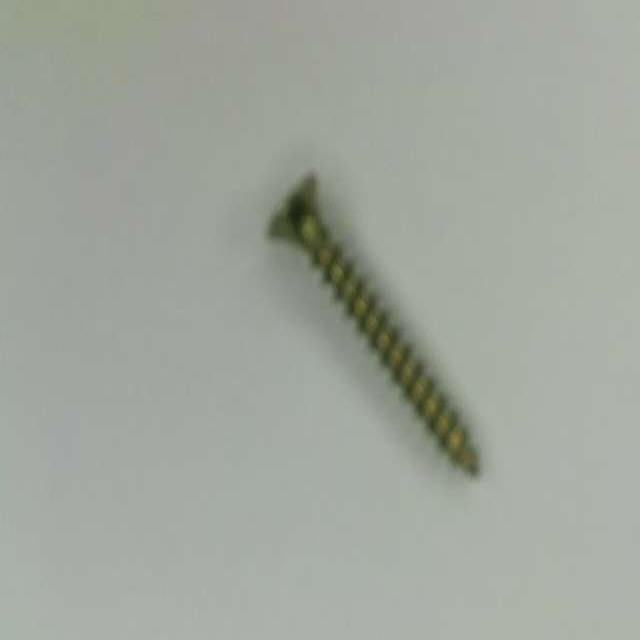Parafuso: (269, 175, 477, 473)
